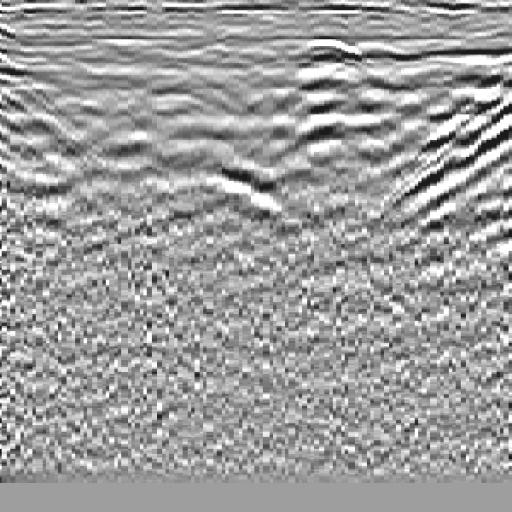metalic: (153, 29, 322, 284)
nonmetalic: (394, 44, 512, 273)
